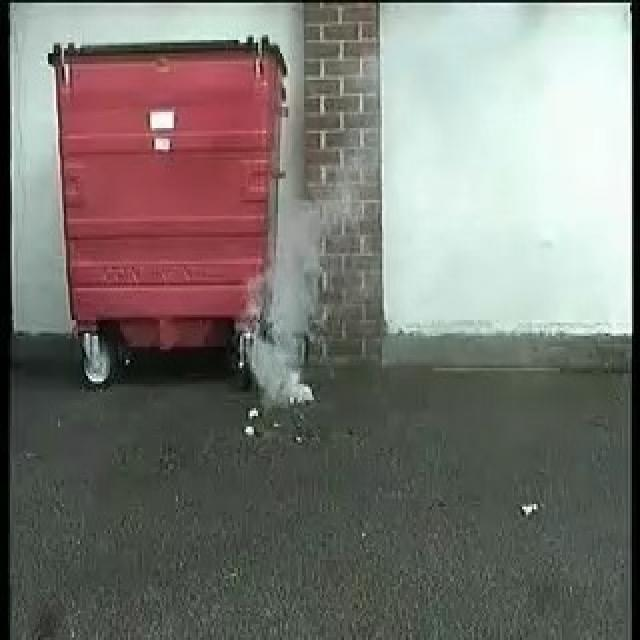smoke: (242, 211, 333, 401)
